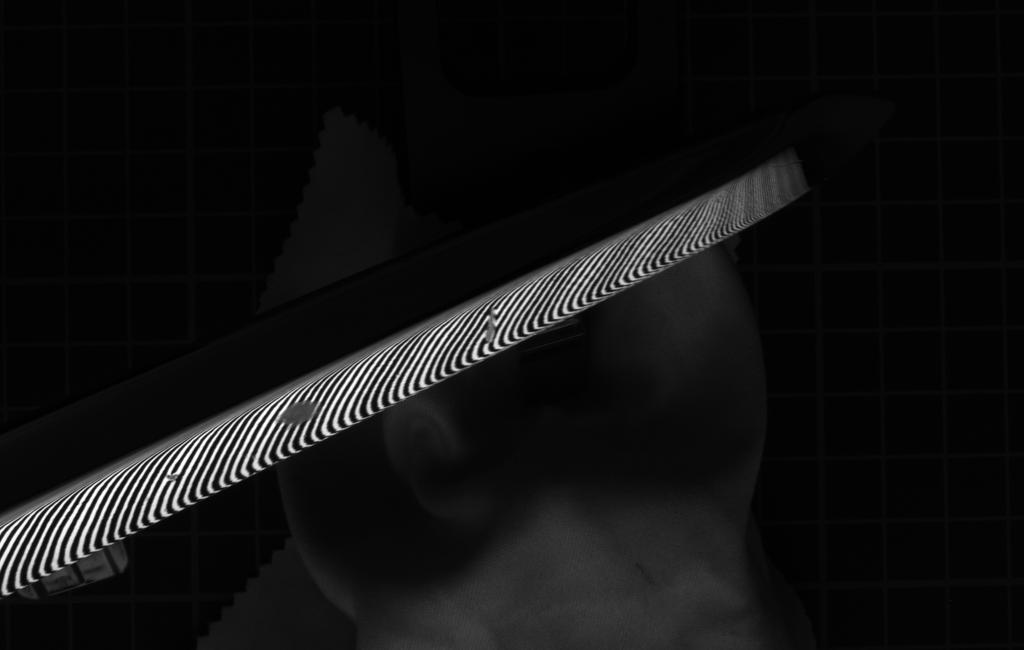Pierced: (162, 470, 185, 486)
Pitting: (274, 395, 326, 427)
Scratch: (481, 301, 503, 350)
